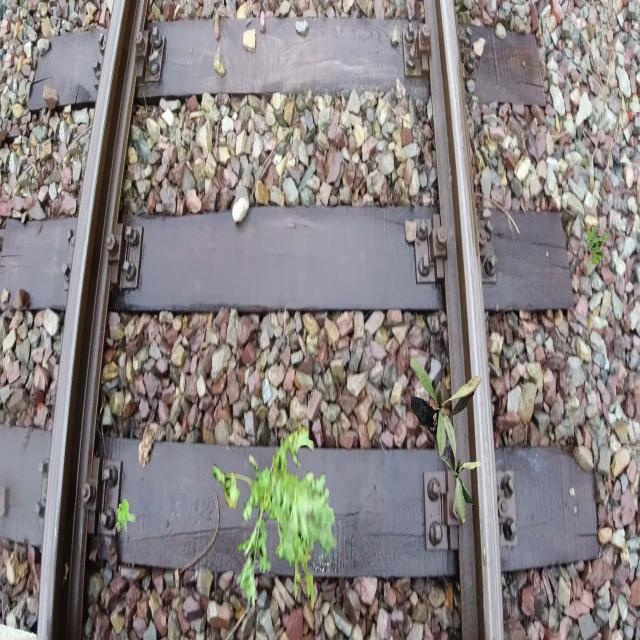Plant: (213, 418, 338, 614), (410, 357, 482, 456), (442, 415, 482, 525), (585, 225, 609, 266), (115, 499, 136, 532)
